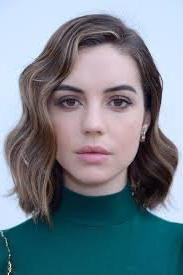Sober: (53, 45, 143, 178)
